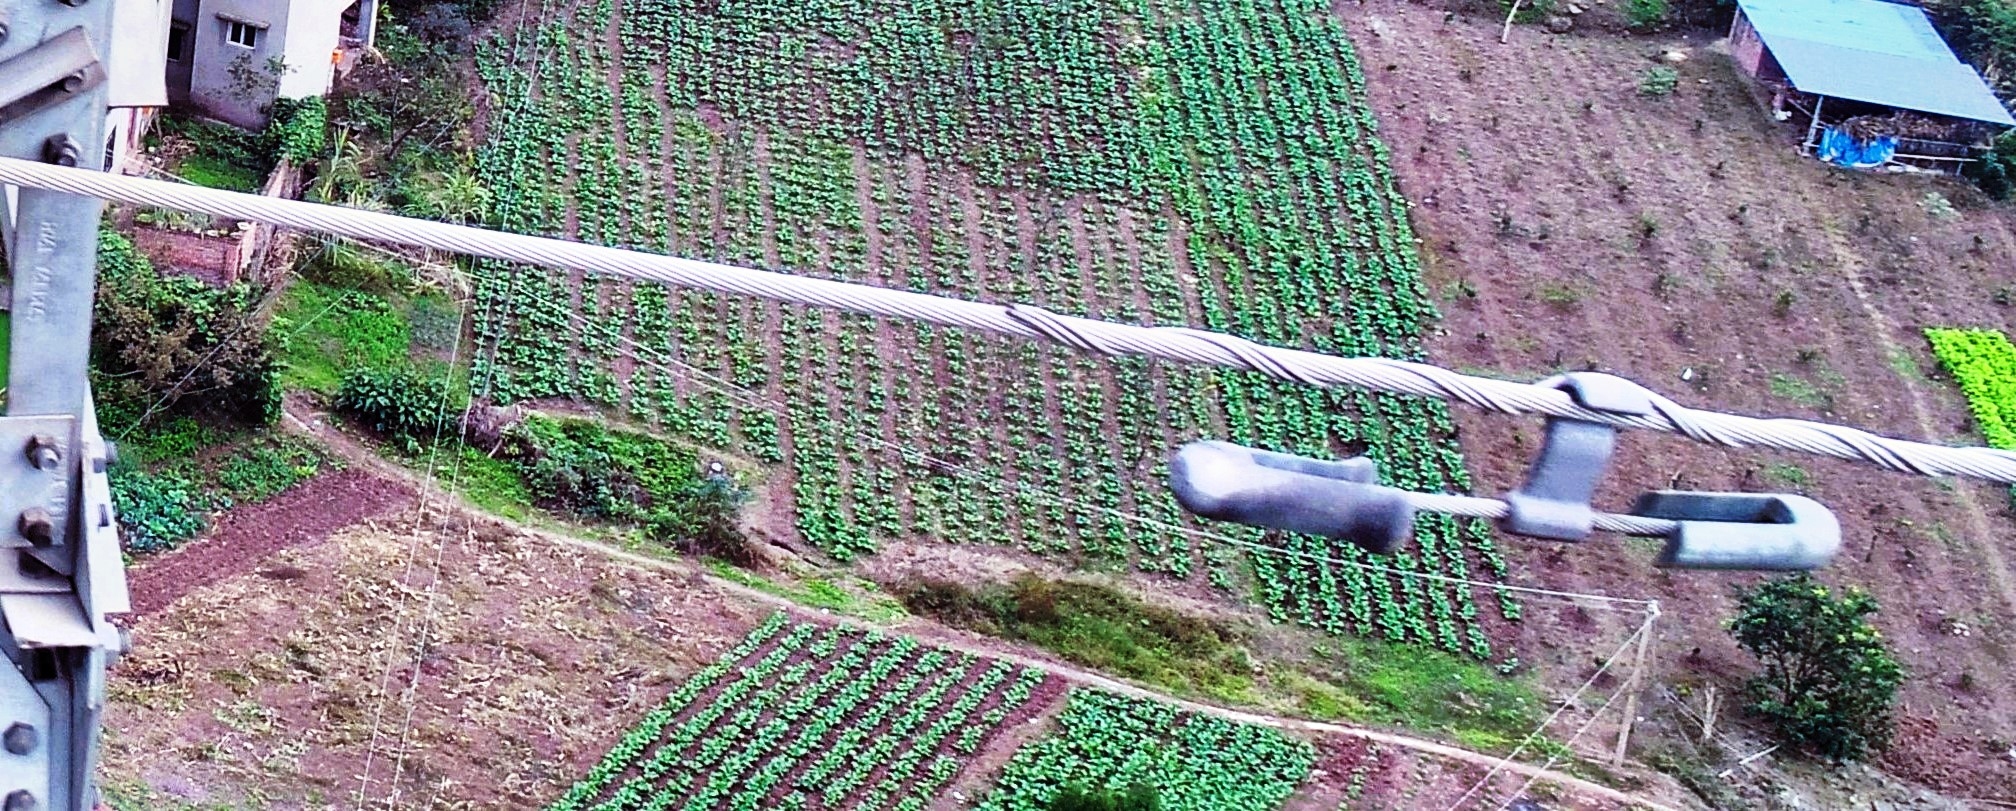Shockproof hammer: (1134, 311, 1850, 595)
